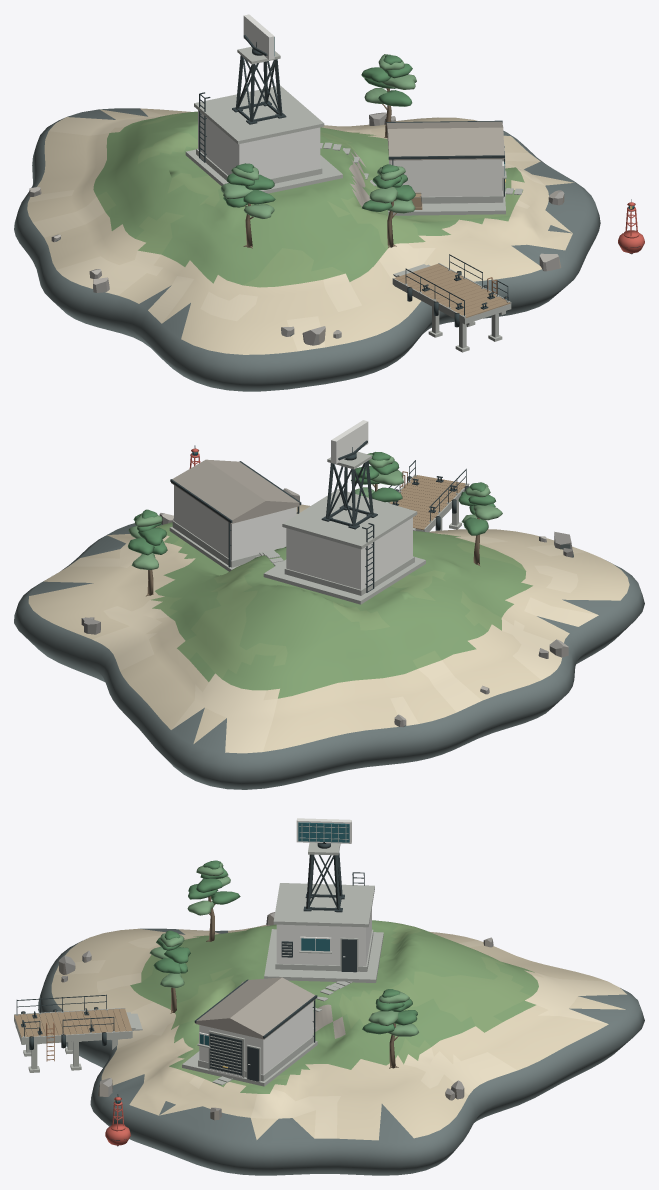
File: ENV_RadarOutpost__Seed20261196_LOD1.fbx
3 renders of one model, top to bottom at view 1: azimuth 30°, elevation 25°; view 2: azimuth 150°, elevation 25°; view 3: azimuth 270°, elevation 25°, orthographic. The views are drawn at different scales.
Parts seen in each view (by area): view 1: TerrainShell, ENV_RadarStation_0_Visual, ENV_SupplyDepot_1_Visual, ENV_Jetty_5_Visual, Decor_Visual, ENV_CoastalPine_3_Visual, ENV_CoastalPine_2_Visual, ENV_CoastalPine_4_Visual.001, SearchArrayHead_Visual, ENV_NavigationBuoy_6_Visual; view 2: TerrainShell, ENV_RadarStation_0_Visual, ENV_SupplyDepot_1_Visual, ENV_Jetty_5_Visual, ENV_CoastalPine_2_Visual, Decor_Visual, ENV_CoastalPine_3_Visual, ENV_CoastalPine_4_Visual.001, SearchArrayHead_Visual; view 3: TerrainShell, ENV_RadarStation_0_Visual, ENV_SupplyDepot_1_Visual, ENV_Jetty_5_Visual, ENV_CoastalPine_2_Visual, ENV_CoastalPine_3_Visual, Decor_Visual, ENV_CoastalPine_4_Visual.001, SearchArrayHead_Visual, ENV_NavigationBuoy_6_Visual.
Boxes of the visible parts, x1,y1,x2,y2 form: TerrainShell: (14, 108, 600, 391); ENV_RadarStation_0_Visual: (185, 46, 342, 193); ENV_SupplyDepot_1_Visual: (386, 120, 506, 215); ENV_Jetty_5_Visual: (392, 254, 511, 352); Decor_Visual: (29, 112, 564, 345); ENV_CoastalPine_3_Visual: (220, 163, 275, 248); ENV_CoastalPine_2_Visual: (361, 54, 416, 138); ENV_CoastalPine_4_Visual.001: (362, 164, 415, 247); SearchArrayHead_Visual: (243, 14, 274, 59); ENV_NavigationBuoy_6_Visual: (618, 199, 644, 254); TerrainShell: (14, 504, 644, 789); ENV_RadarStation_0_Visual: (263, 451, 425, 604); ENV_SupplyDepot_1_Visual: (169, 459, 301, 571); ENV_Jetty_5_Visual: (387, 460, 469, 532); ENV_CoastalPine_2_Visual: (128, 509, 167, 596); Decor_Visual: (81, 488, 573, 727); ENV_CoastalPine_3_Visual: (458, 482, 502, 565); ENV_CoastalPine_4_Visual.001: (351, 452, 403, 502); SearchArrayHead_Visual: (331, 420, 368, 463); TerrainShell: (38, 920, 644, 1175); ENV_RadarStation_0_Visual: (264, 842, 383, 982); ENV_SupplyDepot_1_Visual: (182, 977, 317, 1086); ENV_Jetty_5_Visual: (14, 994, 142, 1072); ENV_CoastalPine_2_Visual: (362, 989, 418, 1068); ENV_CoastalPine_3_Visual: (187, 860, 240, 941); Decor_Visual: (58, 912, 493, 1120); ENV_CoastalPine_4_Visual.001: (149, 930, 190, 1013); SearchArrayHead_Visual: (296, 818, 351, 843); ENV_NavigationBuoy_6_Visual: (105, 1094, 130, 1146).
Size of the model in its own units: 2964 by 1343 by 3377.
